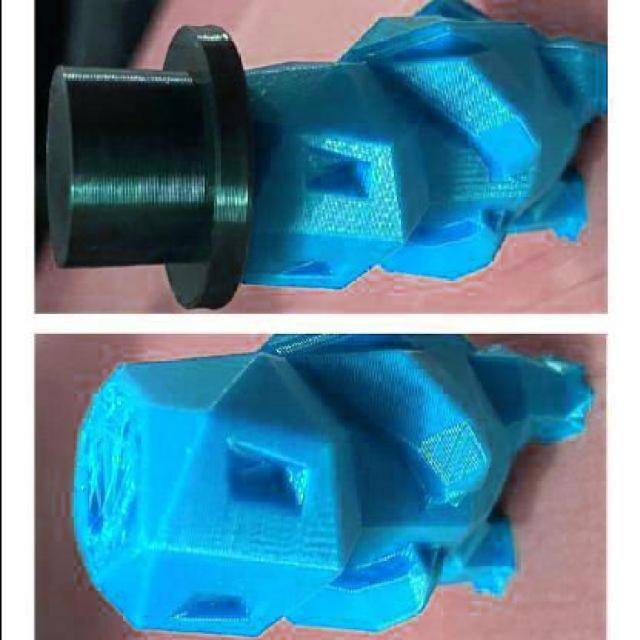Spaghetti: (74, 380, 140, 565)
